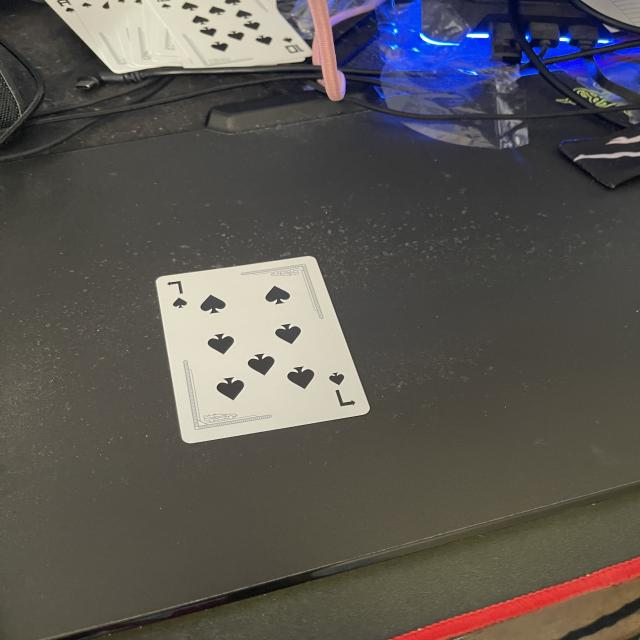10 of spades: (150, 0, 311, 67)
7 of spades: (156, 257, 371, 443)
